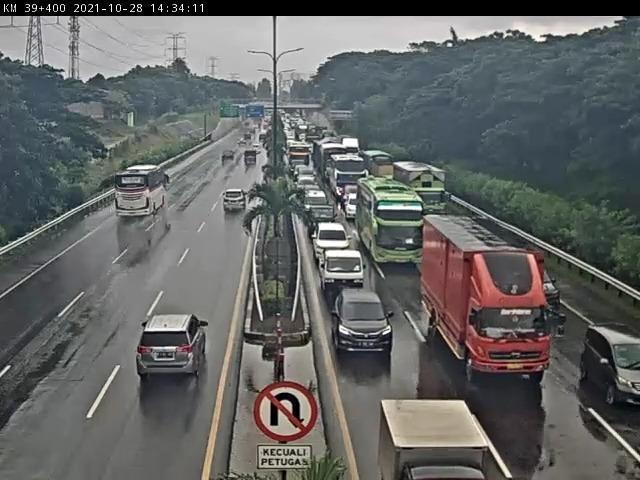bus: (357, 182, 418, 261), (116, 166, 171, 218), (331, 158, 367, 201), (287, 143, 313, 173)
car: (380, 388, 484, 480), (138, 316, 212, 383), (583, 325, 640, 410), (335, 292, 392, 351), (510, 260, 561, 323), (324, 250, 367, 289), (312, 225, 351, 254), (305, 203, 338, 229), (222, 188, 249, 219), (242, 152, 264, 174), (221, 146, 242, 165), (305, 190, 330, 205), (344, 191, 359, 216), (298, 176, 318, 194), (294, 166, 317, 181)
truck: (418, 216, 545, 376), (393, 163, 454, 220), (320, 147, 346, 180)
